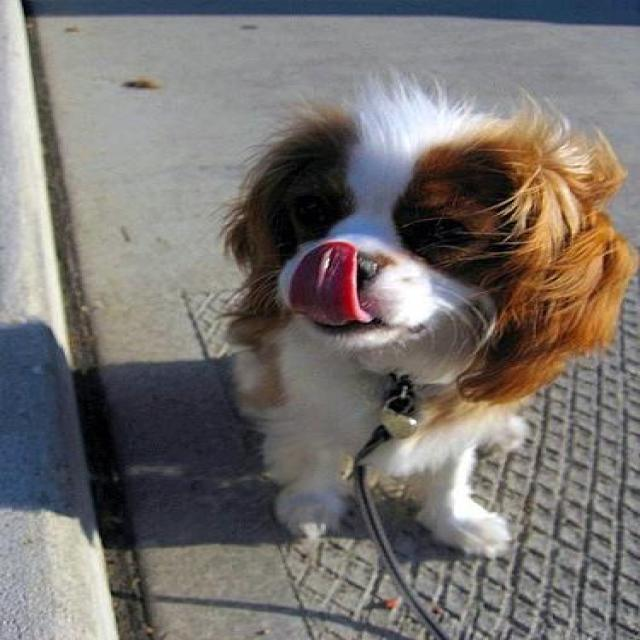blenheim_spaniel: (208, 67, 635, 558)
